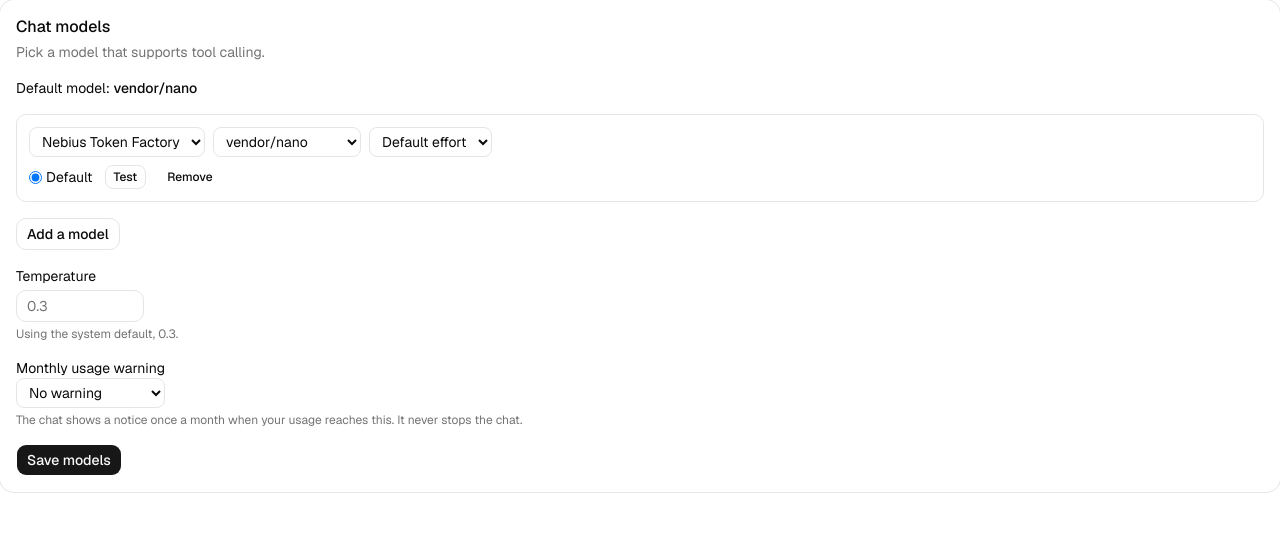
ModelSettingsSection › the usage warning threshold › saves the unit and the amount
Expected: the dropdown named "Model 1 model" shows "vendor/nano", [213, 127, 361, 157]
Select "Estimated dollars" in the dropdown named "Warning unit" at (90, 393), box [16, 378, 165, 408]
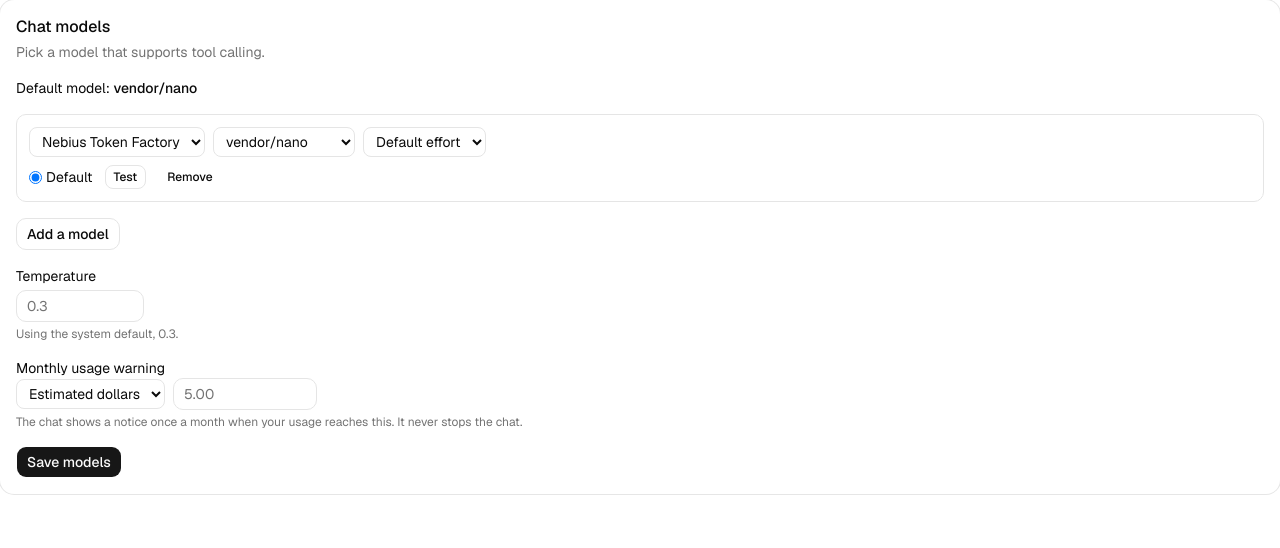
Type "5" into the number field named "Warning amount" at (245, 394), box [173, 378, 317, 410]
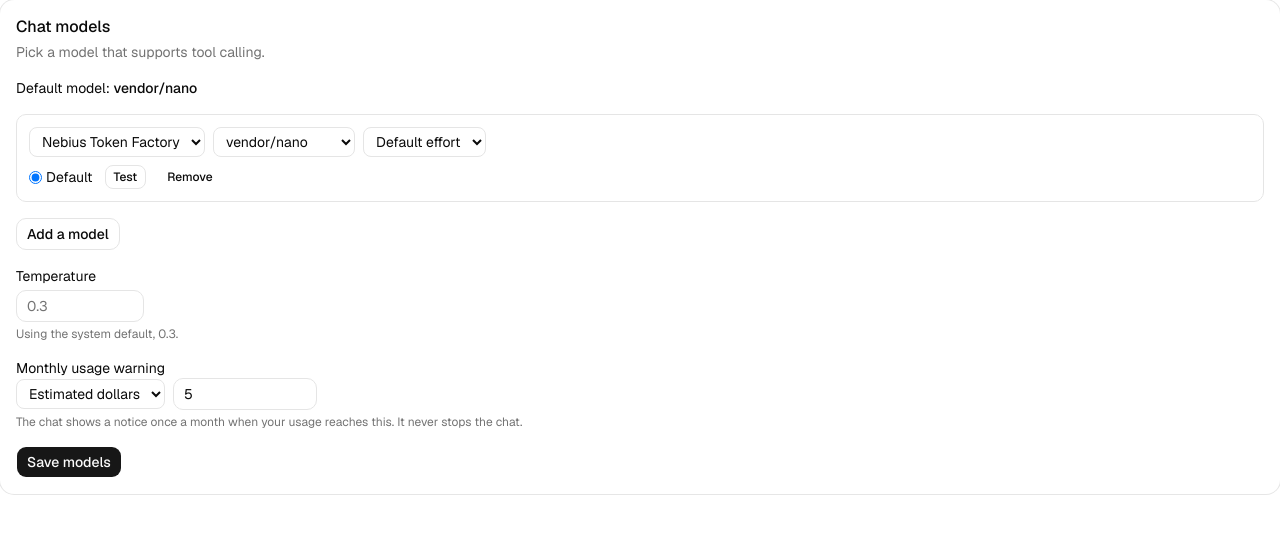
Click the button "Save models" at (69, 462), box [16, 446, 122, 478]
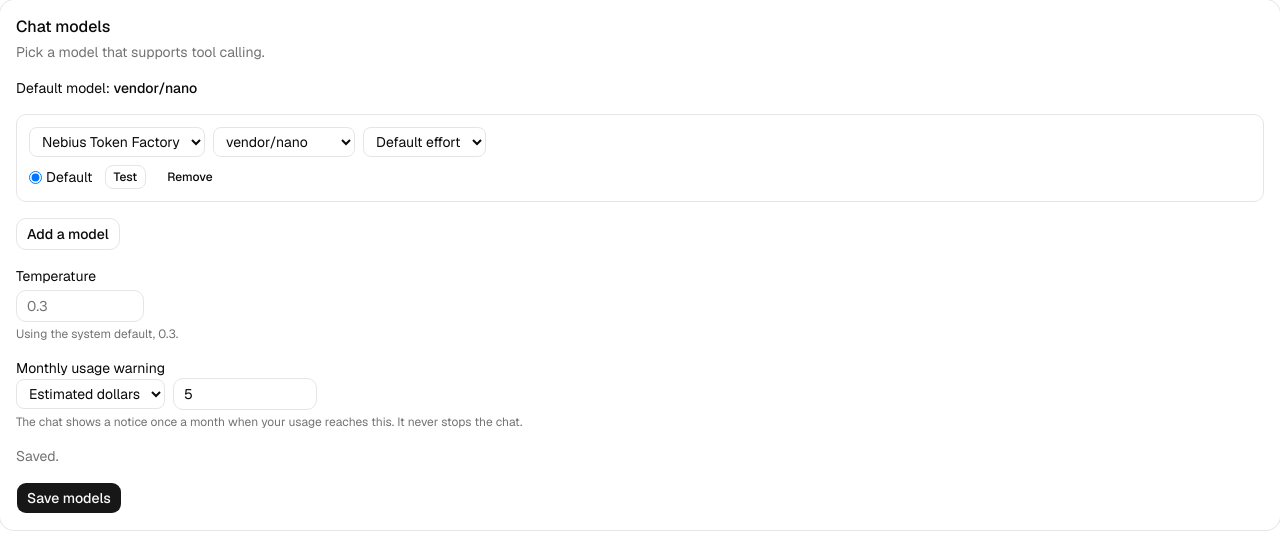
Now the text "Saved." is shown, box [16, 447, 58, 465]
